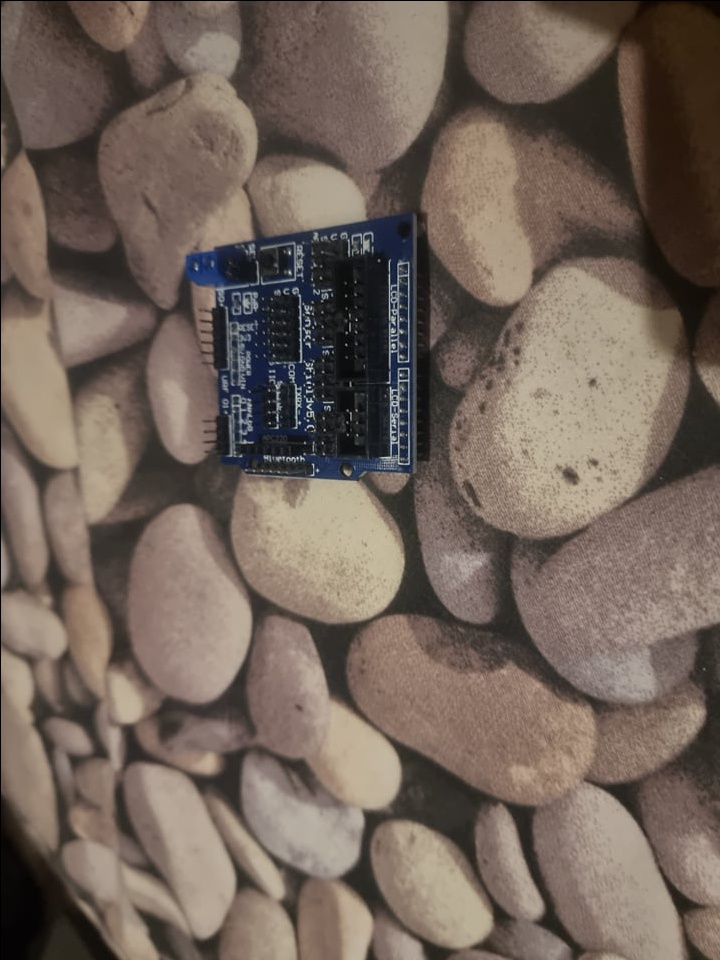5V EXPANSION: (186, 210, 422, 481)
